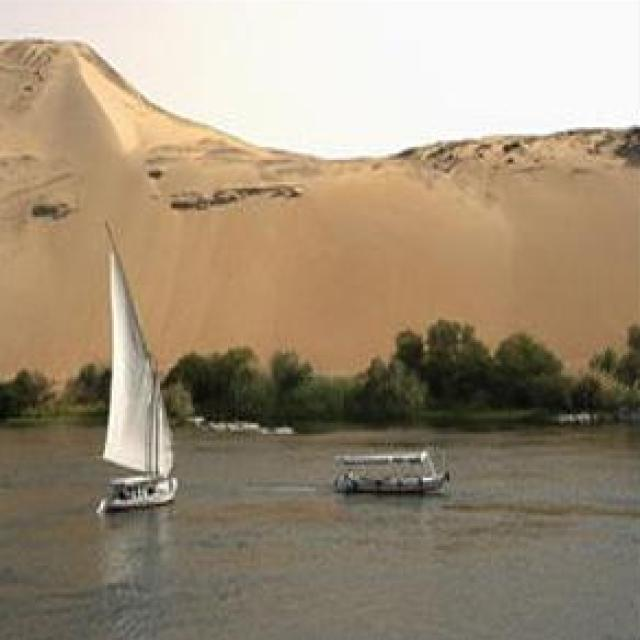houseboat: (333, 443, 461, 492)
sailboat: (61, 213, 196, 526)
